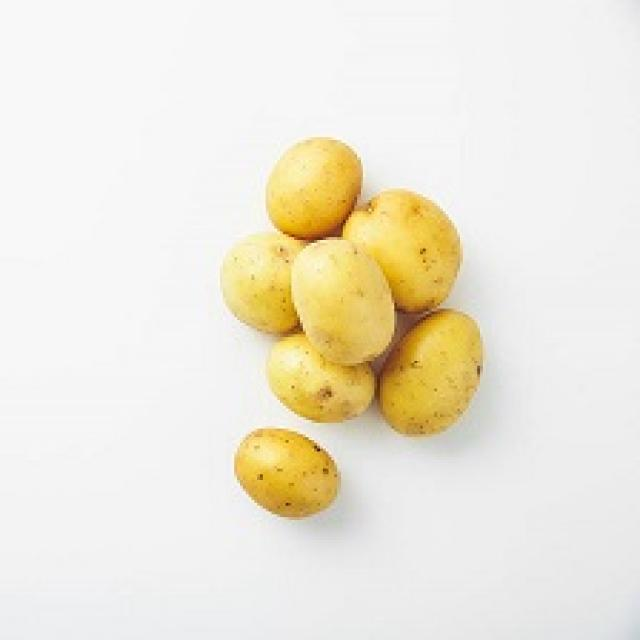healthy: (204, 130, 492, 536)
